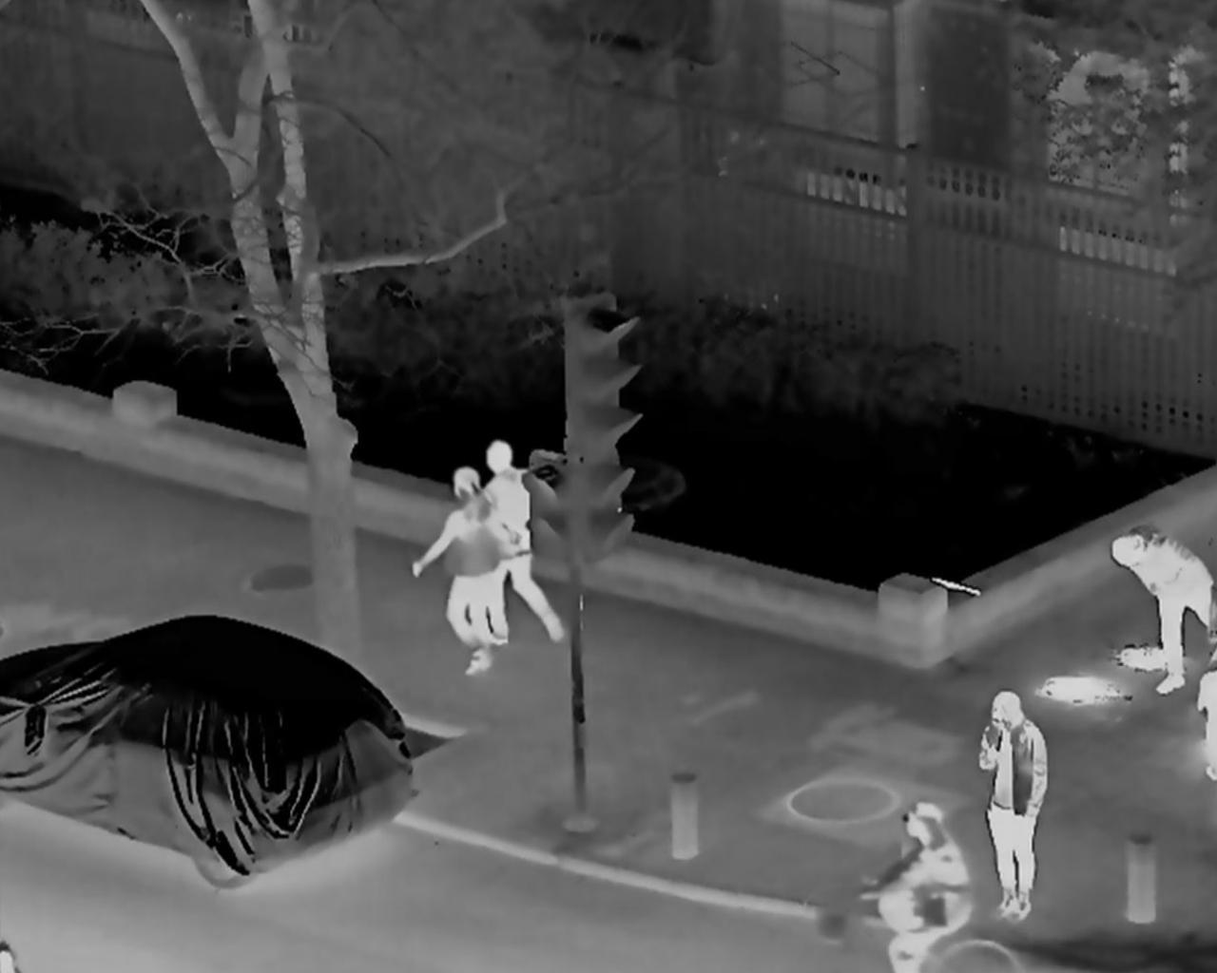person: (857, 801, 976, 973), (418, 473, 509, 677), (468, 446, 562, 642), (1108, 530, 1212, 699), (981, 690, 1044, 924)
